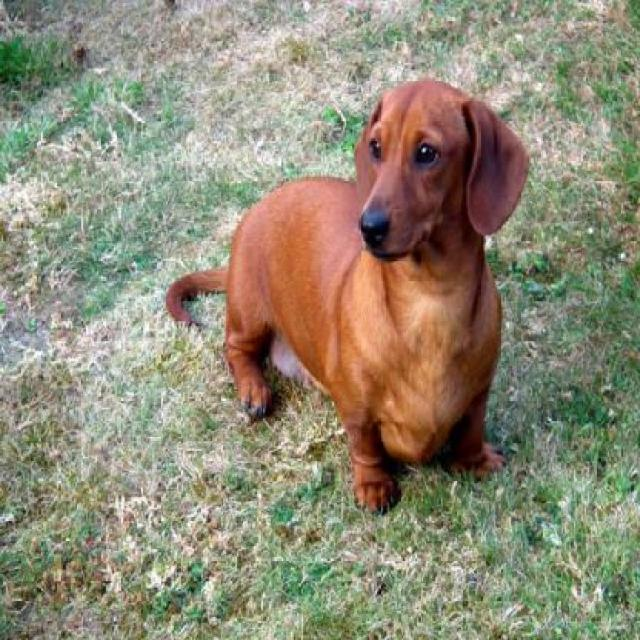Dog: (163, 63, 531, 515)
